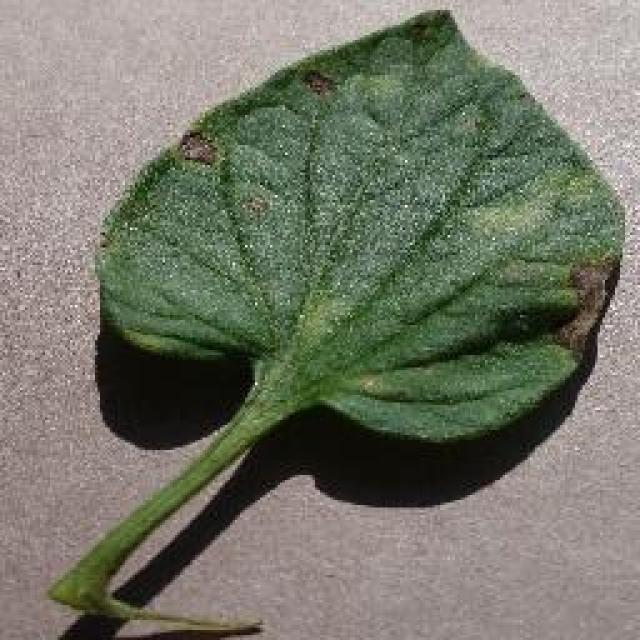Tomato___Early_blight: (34, 9, 624, 637)
